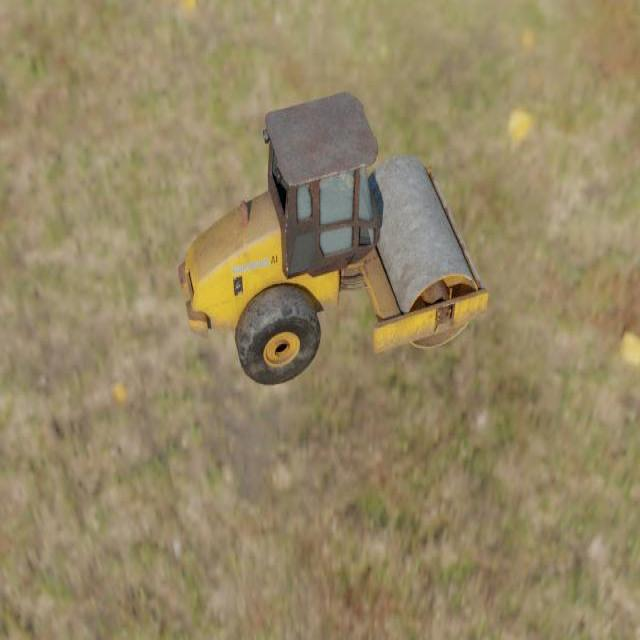Roller: (177, 91, 488, 385)
